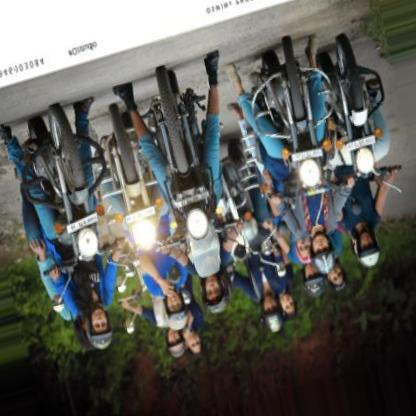with helmet: (158, 287, 191, 329), (85, 307, 115, 350), (309, 233, 338, 273), (202, 278, 228, 317)
